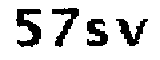5: (9, 3, 46, 50)
7: (51, 3, 79, 48)
s: (83, 17, 111, 51)
v: (114, 15, 150, 50)
